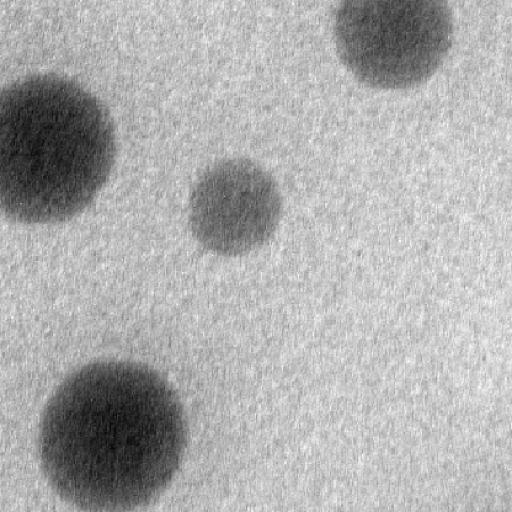Nanoparticles: (37, 356, 188, 508), (2, 74, 116, 220), (332, 0, 454, 89), (185, 156, 283, 254)
